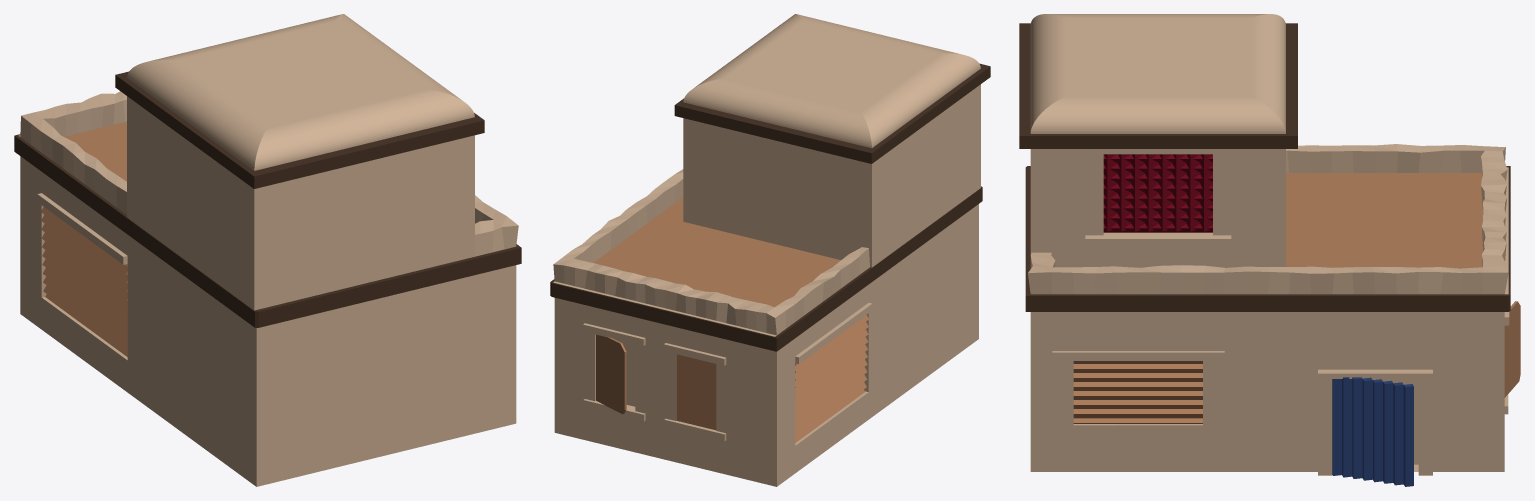
File: dom4.fbx
3 renders of one model, left to right at view 1: azimuth 30°, elevation 25°; view 2: azimuth 150°, elevation 25°; view 3: azimuth 270°, elevation 25°, orthographic. The views are drawn at different scales.
Parts seen in each view (by area): view 1: Cube, Cube.002, Plane.001, Cube.003; view 2: Cube, Cube.002, Plane.001, Cube.003, Plane.003, Plane.002; view 3: Cube, Cube.002, Plane.006, Plane, Cube.003, Plane.004, Plane.005, Plane.002.
Boxes of the visible parts, <box> form: Cube: <box>14,91,521,486</box>; Cube.002: <box>127,14,474,310</box>; Plane.001: <box>41,207,127,356</box>; Cube.003: <box>115,71,484,188</box>; Cube: <box>550,169,982,486</box>; Cube.002: <box>683,14,980,267</box>; Plane.001: <box>795,315,868,442</box>; Cube.003: <box>674,63,990,163</box>; Plane.003: <box>676,354,716,430</box>; Plane.002: <box>596,334,626,414</box>; Cube: <box>1025,144,1510,475</box>; Cube.002: <box>1030,14,1285,267</box>; Plane.006: <box>1332,377,1413,486</box>; Plane: <box>1073,361,1202,423</box>; Cube.003: <box>1019,23,1297,148</box>; Plane.004: <box>1103,154,1212,231</box>; Plane.005: <box>1103,154,1212,232</box>; Plane.002: <box>1504,301,1520,397</box>.
Size of the model in its own units: 1872 by 2741 by 2059.
